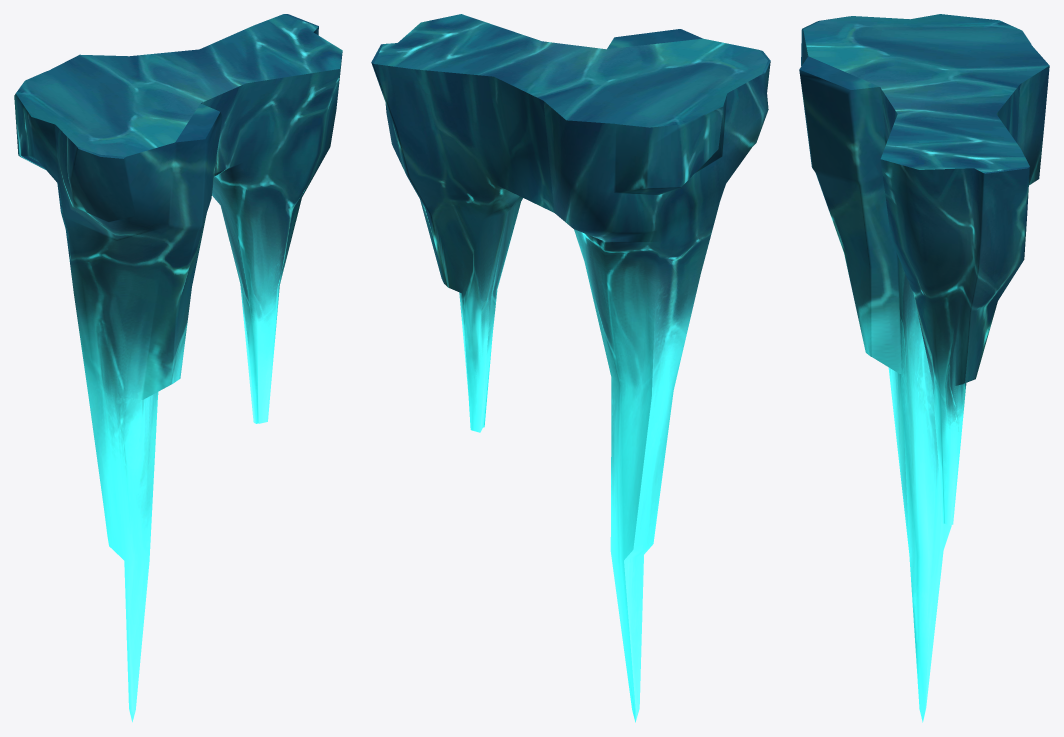
The model's file is P_ENV_icicle_03.gltf.
3 views of the same model, side by side, from view 1: azimuth 30°, elevation 25°; view 2: azimuth 150°, elevation 25°; view 3: azimuth 270°, elevation 25° (orthographic). The views are drawn at different scales.
Visible parts, largest first — view 1: P_ENV_icicle_03(Clone); view 2: P_ENV_icicle_03(Clone); view 3: P_ENV_icicle_03(Clone).
Boxes of the visible parts, left/top/right/bottom form: P_ENV_icicle_03(Clone): left=14, top=14, right=342, bottom=722; P_ENV_icicle_03(Clone): left=371, top=14, right=770, bottom=722; P_ENV_icicle_03(Clone): left=799, top=14, right=1049, bottom=722.
Bounding box in the file's own units: 0.7706 × 1.48 × 0.5071.
1 material, 1 textured.
